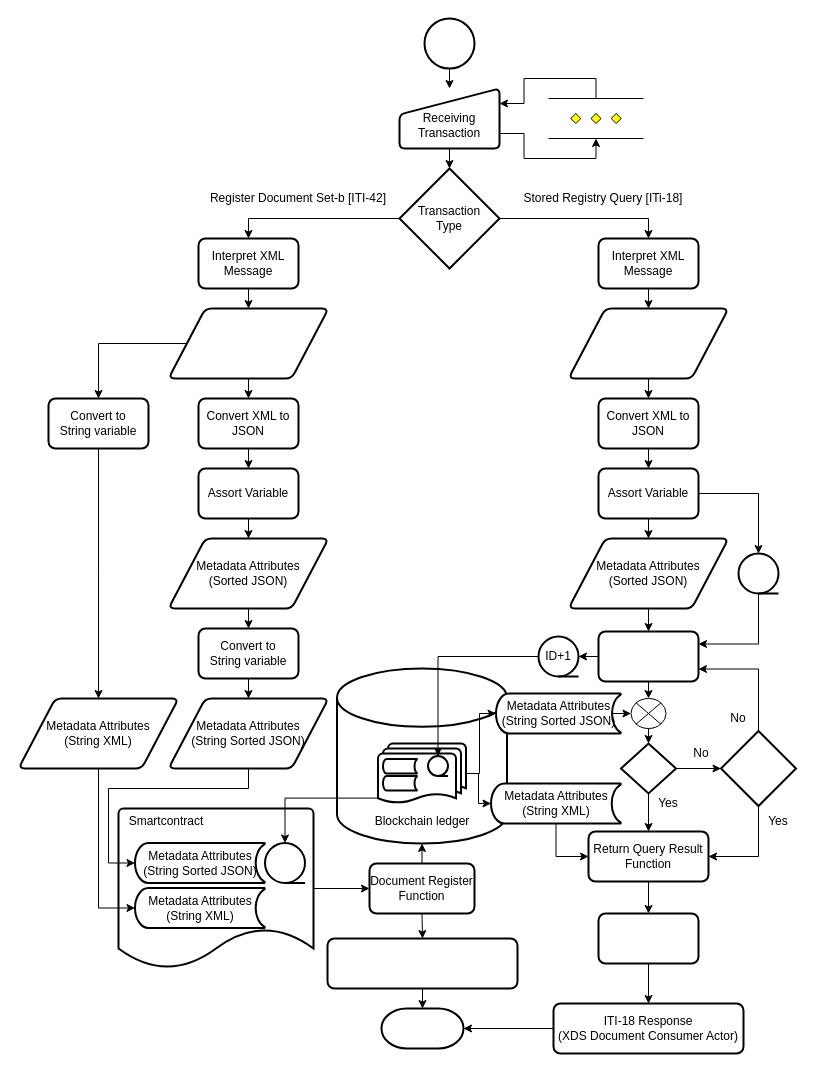
This 815x1071 diagram has some shape labels left out. Here are the shapes that lost their labels. From the top down, the centre of each, then its label:
point (449, 43): Start
point (248, 343): Health Document Metadata Attributes Value Set (XML)
point (648, 343): Search Keywords Metadata Attributes Value Set (XML)
point (758, 573): ID=0
point (648, 656): Document Search Function
point (648, 768): Match?
point (758, 768): Last ID Reached
point (285, 863): New ID
point (648, 938): Assort for ITI-18 Response Format
point (422, 963): ITI-42 Response To Sender (XDS Document Repository Actor)
point (422, 1028): End
